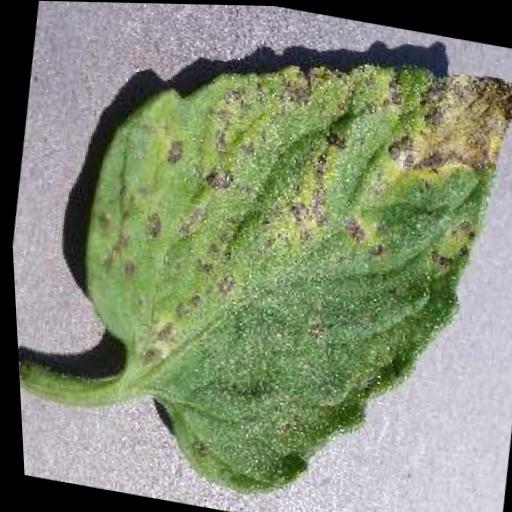Septoria: (39, 5, 512, 512)
